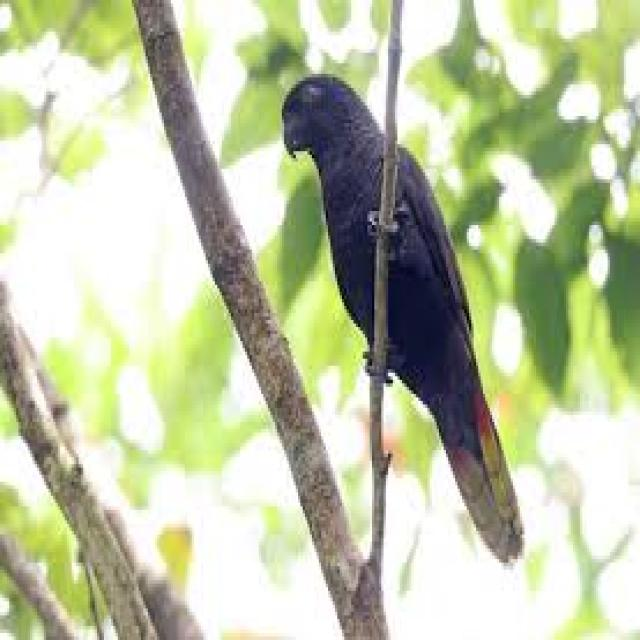Nuri Hitam: (274, 59, 541, 582)
